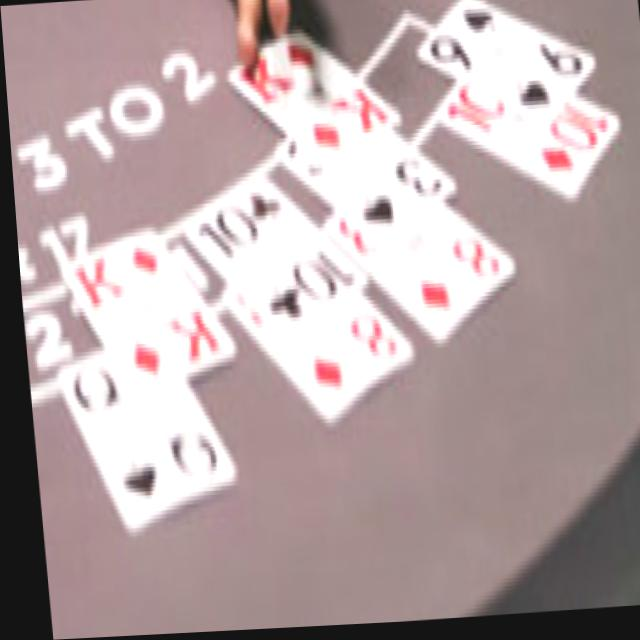Card-10: (182, 171, 363, 350), (438, 82, 617, 207)
Card-3: (274, 133, 453, 257)
Card-8: (216, 284, 409, 432), (320, 209, 511, 351)
Card-9: (414, 0, 595, 129)
Card-K: (60, 227, 230, 408), (227, 28, 398, 175)
Card-Q: (51, 347, 228, 532)
